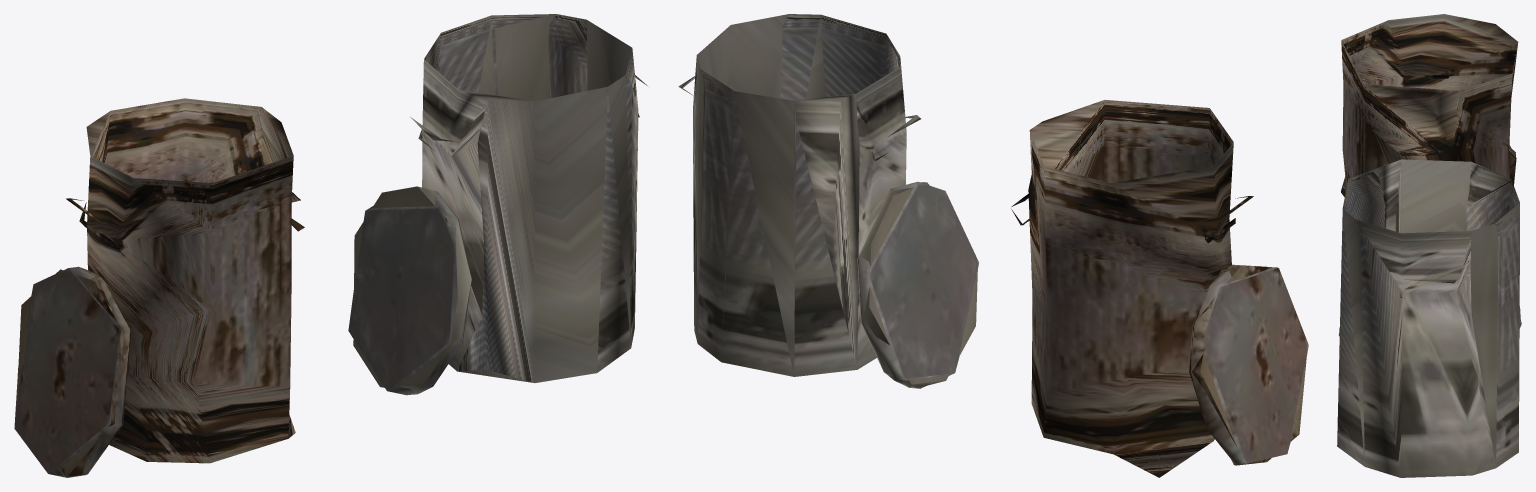
File: metal_trash_can_lod1.glb
3 views of the same model, side by side, from view 1: azimuth 30°, elevation 25°; view 2: azimuth 150°, elevation 25°; view 3: azimuth 270°, elevation 25° (orthographic). The views are drawn at different scales.
Visible parts, largest first — view 1: metal_trash_can, metal_trash_can_rust, metal_trash_can_lid, metal_trash_can_rust_lid; view 2: metal_trash_can, metal_trash_can_rust, metal_trash_can_lid, metal_trash_can_rust_lid; view 3: metal_trash_can, metal_trash_can_rust, metal_trash_can_rust_lid.
Part boxes in pixels (<box>): metal_trash_can: <box>422,14,638,382</box>; metal_trash_can_rust: <box>86,98,300,463</box>; metal_trash_can_lid: <box>348,186,471,395</box>; metal_trash_can_rust_lid: <box>14,266,131,477</box>; metal_trash_can: <box>693,14,906,376</box>; metal_trash_can_rust: <box>1028,100,1233,477</box>; metal_trash_can_lid: <box>857,181,978,388</box>; metal_trash_can_rust_lid: <box>1189,264,1308,465</box>; metal_trash_can: <box>1337,159,1519,477</box>; metal_trash_can_rust: <box>1341,14,1518,187</box>; metal_trash_can_rust_lid: <box>1341,145,1516,196</box>.
Bounding box in the file's own units: 1.77 × 0.8557 × 0.5432.
2 materials, 2 textured.
